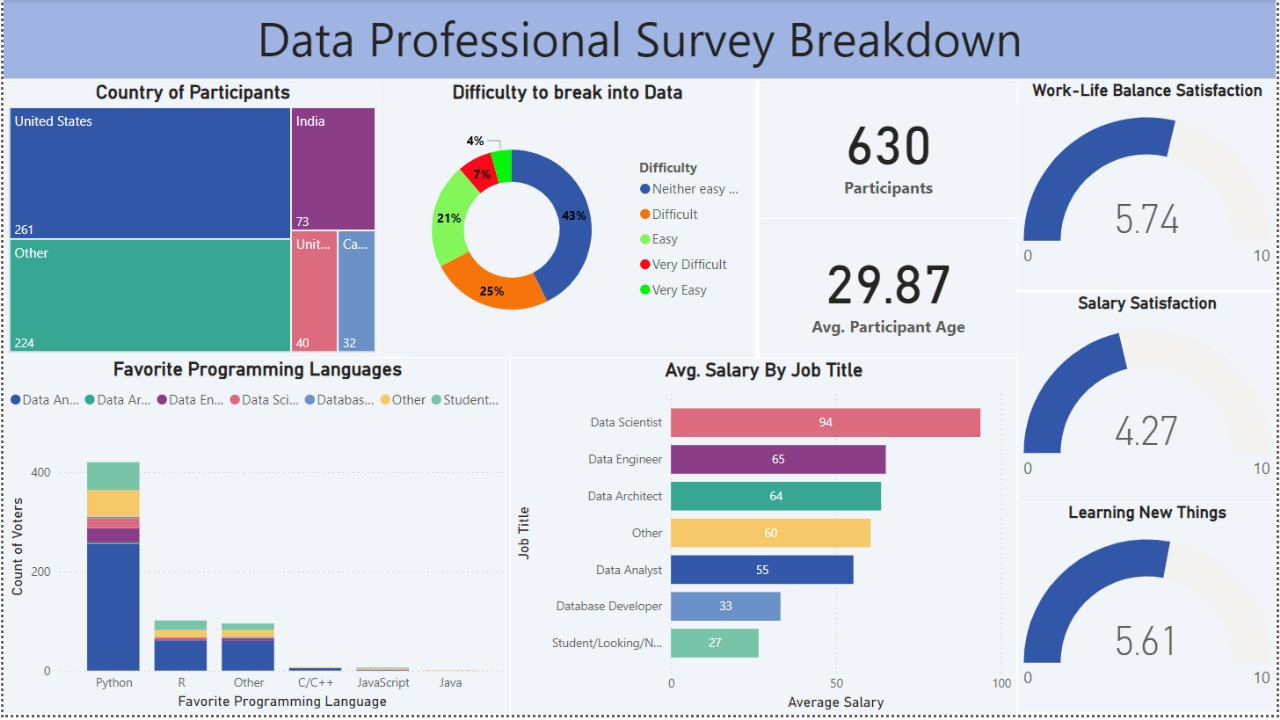

The dashboard page shown, as its layout file describes it:
{"tool":"powerbi","page":{"name":"Page 1","canvas":[1280,720],"ordinal":0},"visuals":[{"type":"textbox","box":[0,0,1280,80],"z":0},{"type":"card","fields":{"Values":["Count(Data Professional Survey.Unique ID)"]},"box":[760.3,81,260.1,140],"z":1000},{"type":"card","fields":{"Values":["Avg(Data Professional Survey.Q10 - Current Age)"]},"box":[760.3,220,260.1,141],"z":2000},{"type":"barChart","title":"Avg. Salary By Job Title","fields":{"Category":["Data Professional Survey.Q1 - Which Title Best Fits your Current Role?.1"],"Y":["Avg(Data Professional Survey.Average Salary)"],"Series":["Data Professional Survey.Q1 - Which Title Best Fits your Current Role?.1"]},"box":[510.1,361,510.1,360],"z":3000},{"type":"columnChart","title":"Favorite Programming Languages","fields":{"Category":["Data Professional Survey.Q5 - Favorite Programming Language.1"],"Y":["CountNonNull(Data Professional Survey.Unique ID)"],"Series":["Data Professional Survey.Q1 - Which Title Best Fits your Current Role?.1"]},"box":[0,360,510.1,360],"z":4000},{"type":"treemap","title":"Country of Participants","fields":{"Group":["Data Professional Survey.Q11 - Which Country do you live in?.1"],"Values":["CountNonNull(Data Professional Survey.Q11 - Which Country do you live in?.1)"]},"box":[0,81,380,280],"z":5000},{"type":"gauge","title":"Salary Satisfaction","fields":{"Y":["Avg(Data Professional Survey.Q6 - How Happy are you in your Current Position with the following? (Salary))"],"MinValue":["Min(Data Professional Survey.Q6 - How Happy are you in your Current Position with the following? (Salary))1"],"MaxValue":["Max(Data Professional Survey.Q6 - How Happy are you in your Current Position with the following? (Salary))2"]},"box":[1020.3,294,260,212],"z":6000},{"type":"gauge","title":"Work-Life Balance Satisfaction","fields":{"Y":["Avg(Data Professional Survey.Q6 - How Happy are you in your Current Position with the following? (Work/Life Balance))"],"MinValue":["Min(Data Professional Survey.Q6 - How Happy are you in your Current Position with the following? (Work/Life Balance))"],"MaxValue":["Max(Data Professional Survey.Q6 - How Happy are you in your Current Position with the following? (Work/Life Balance))1"]},"box":[1020.3,81,260.1,212],"z":7000},{"type":"gauge","title":"Learning New Things","fields":{"Y":["Avg(Data Professional Survey.Q6 - How Happy are you in your Current Position with the following? (Learning New Things))"],"MinValue":["Min(Data Professional Survey.Q6 - How Happy are you in your Current Position with the following? (Learning New Things))"],"MaxValue":["Max(Data Professional Survey.Q6 - How Happy are you in your Current Position with the following? (Learning New Things))1"]},"box":[1020.3,506,260.1,212],"z":8000},{"type":"donutChart","title":"Difficulty to break into Data","fields":{"Y":["CountNonNull(Data Professional Survey.Q7 - How difficult was it for you to break into Data?)"],"Category":["Data Professional Survey.Q7 - How difficult was it for you to break into Data?"]},"box":[377.1,81,380,280],"z":9000}]}

Visuals, with their boxes in screenshot pixels (x1, y1, x2, y2), scaled from the page's 1280x720 canvas onto the 1280x720 screenshot:
textbox: select_region(0, 0, 1279, 80)
card - Count(Data Professional Survey.Unique ID): select_region(760, 81, 1020, 221)
card - Avg(Data Professional Survey.Q10 - Current Age): select_region(760, 220, 1020, 361)
"Avg. Salary By Job Title" barChart: select_region(510, 361, 1020, 719)
"Favorite Programming Languages" columnChart: select_region(0, 360, 510, 719)
"Country of Participants" treemap: select_region(0, 81, 380, 361)
"Salary Satisfaction" gauge: select_region(1020, 294, 1279, 506)
"Work-Life Balance Satisfaction" gauge: select_region(1020, 81, 1279, 293)
"Learning New Things" gauge: select_region(1020, 506, 1279, 718)
"Difficulty to break into Data" donutChart: select_region(377, 81, 757, 361)
